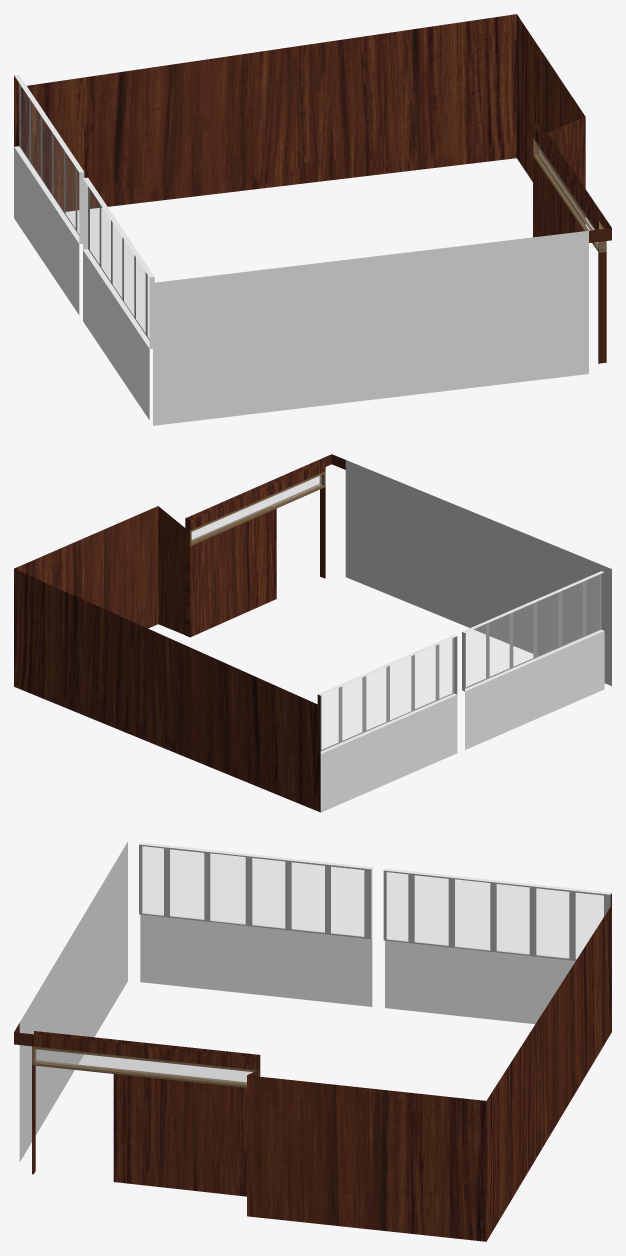
Rendered from lab_1_abajo.glb.
The picture shows the model from 3 angles, top to bottom: view 1: azimuth 30°, elevation 25°; view 2: azimuth 150°, elevation 25°; view 3: azimuth 270°, elevation 25°; orthographic projection. The views are drawn at different scales.
Visible parts, largest first — view 1: aula base.009; view 2: aula base.009; view 3: aula base.009.
Part boxes in pixels (x1,y1,x2,y2): aula base.009: [14, 14, 611, 425]; aula base.009: [14, 454, 611, 812]; aula base.009: [14, 842, 611, 1241].
Size of the model in its own units: 70.09 by 17.7 by 67.87.
Materials: 5 (2 with a texture image).
